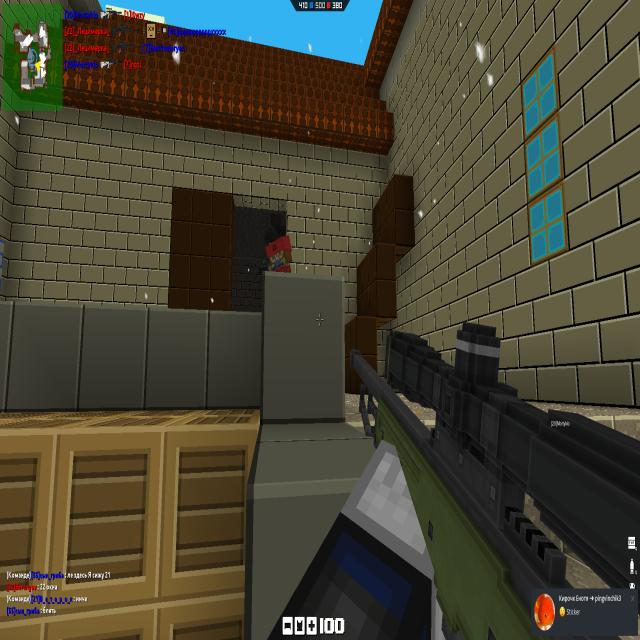player: (264, 240, 294, 275)
